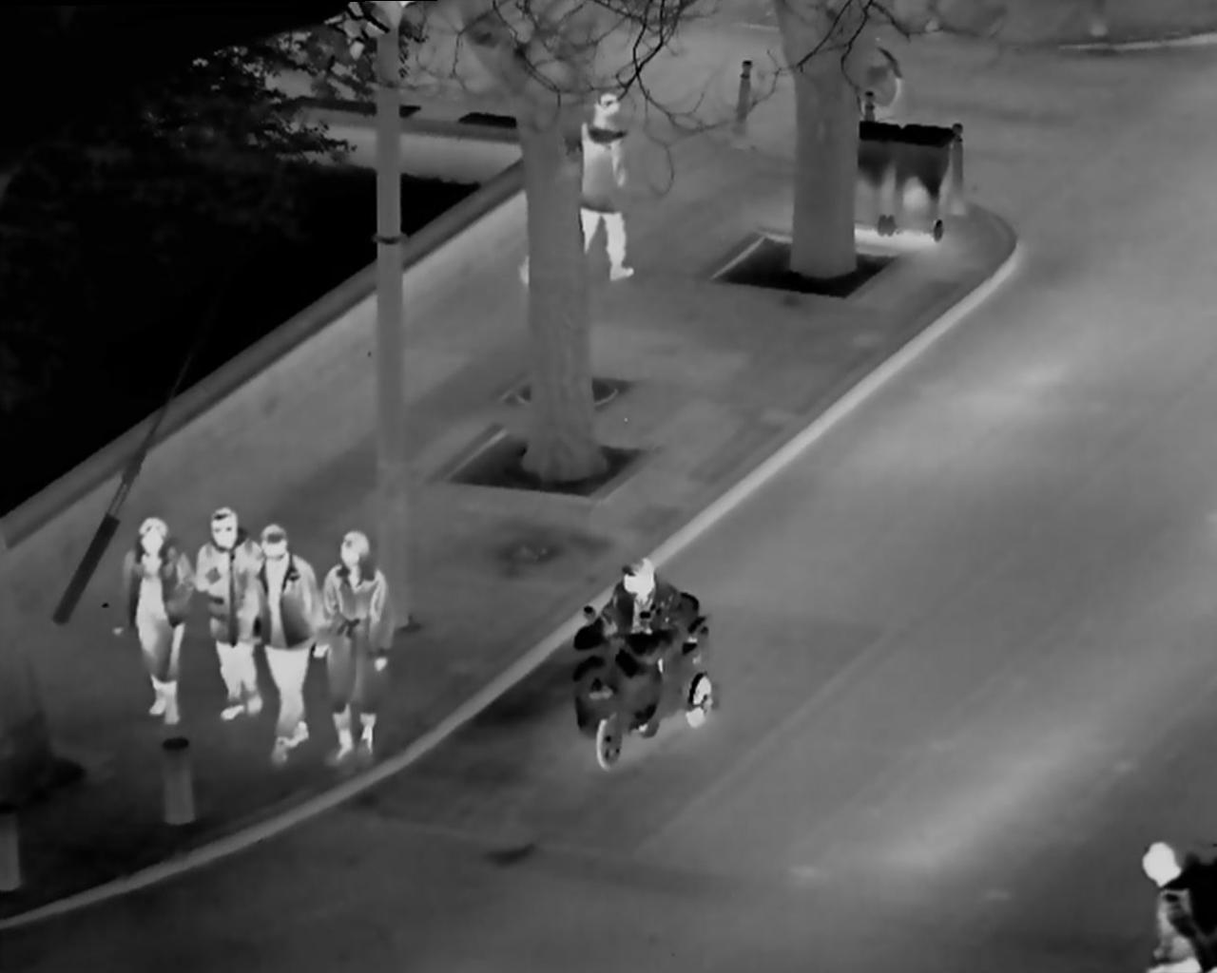person: (581, 544, 705, 754), (308, 519, 396, 765), (117, 498, 194, 727), (191, 506, 267, 738), (249, 519, 319, 769), (571, 73, 638, 297), (1131, 836, 1217, 969)
